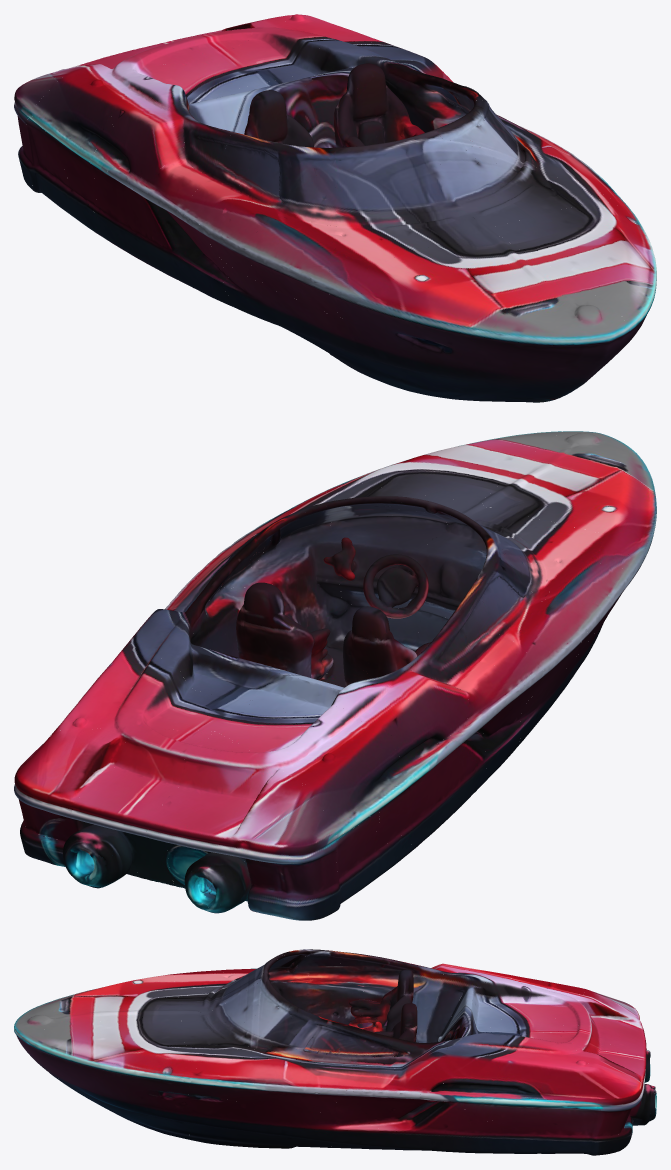
Rendered from boat_speedboat.glb.
3 renders of one model, top to bottom at view 1: azimuth 30°, elevation 25°; view 2: azimuth 150°, elevation 25°; view 3: azimuth 270°, elevation 25°, orthographic. The views are drawn at different scales.
Visible parts, largest first — view 1: tripo_node_c041b5b4-dfd6-4a77-a6b4-03ec5a171a4f; view 2: tripo_node_c041b5b4-dfd6-4a77-a6b4-03ec5a171a4f; view 3: tripo_node_c041b5b4-dfd6-4a77-a6b4-03ec5a171a4f.
Boxes of the visible parts, x1=… form: tripo_node_c041b5b4-dfd6-4a77-a6b4-03ec5a171a4f: x1=14, y1=14, x2=656, y2=402; tripo_node_c041b5b4-dfd6-4a77-a6b4-03ec5a171a4f: x1=14, y1=431, x2=656, y2=920; tripo_node_c041b5b4-dfd6-4a77-a6b4-03ec5a171a4f: x1=14, y1=949, x2=656, y2=1155.
Size of the model in its own units: 0.43 by 0.2664 by 1.
1 material, 1 textured.
